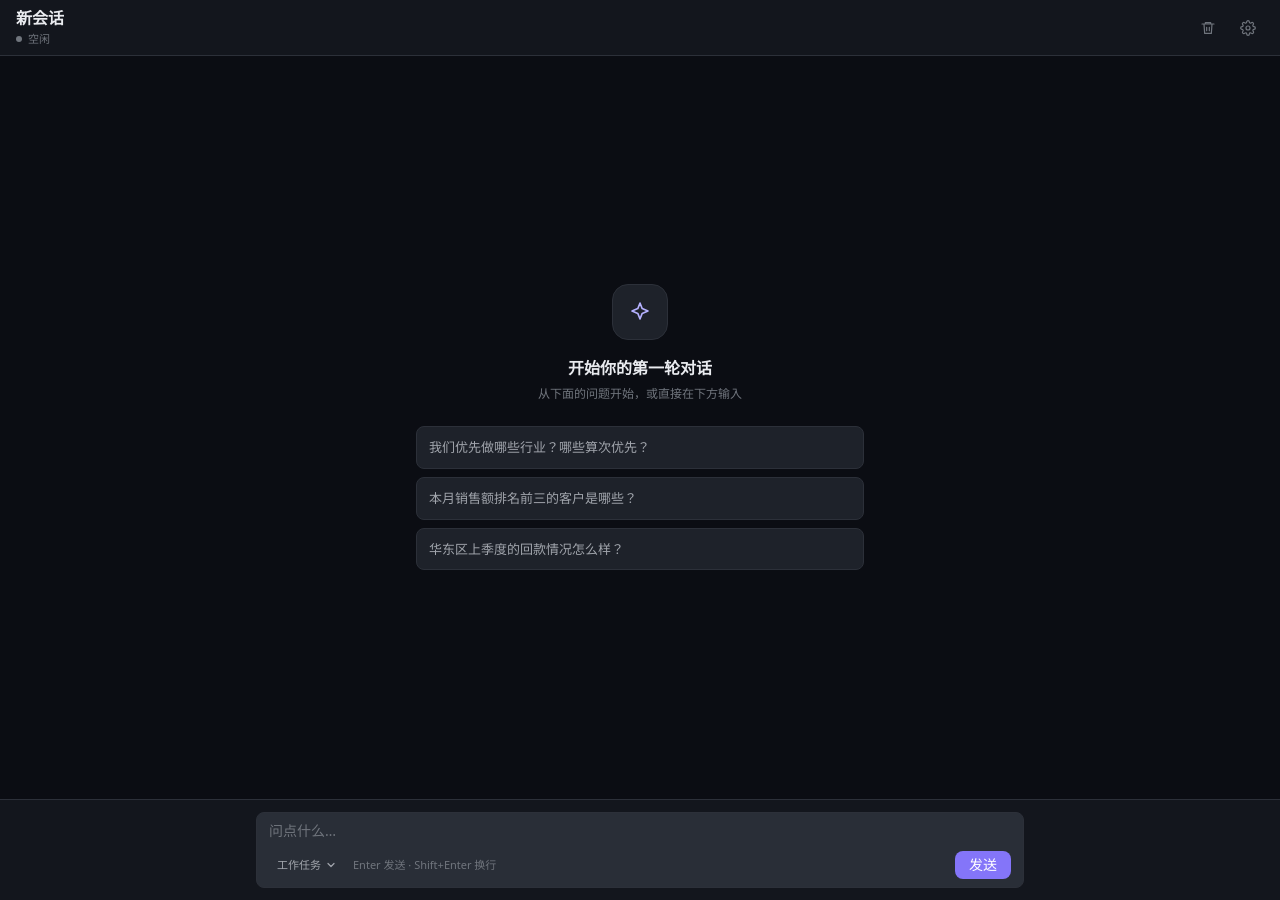
Scenario: ChatPage › 挂起审批期间发送按钮被禁用
This screenshot has width=1280, height=900.
Type "q" into the text box with placeholder "问点什么…".
click(640, 831); type("q")  # box 269,821 -> 1011,841
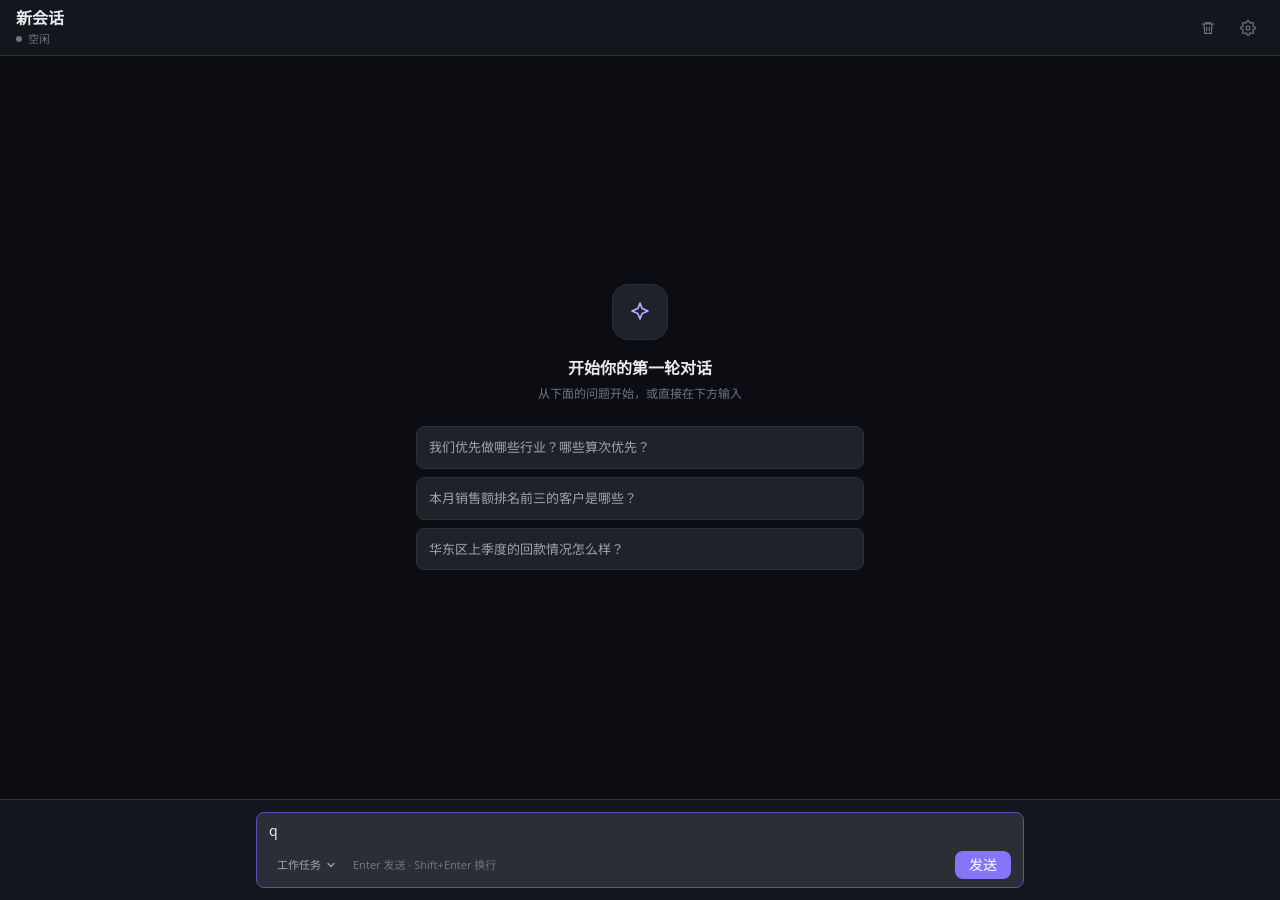
Click the button "发送".
click(983, 865)  # box 955,851 -> 1011,879
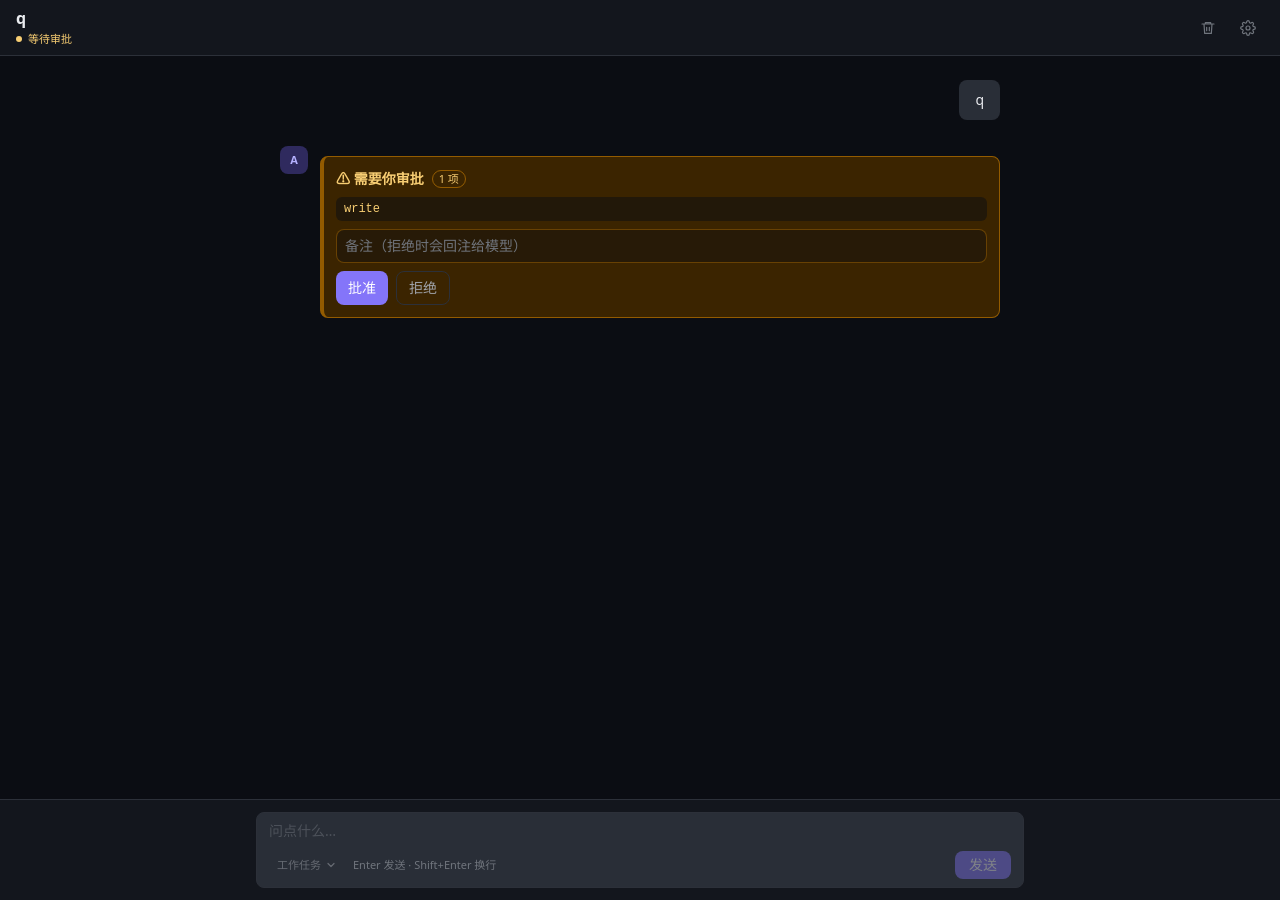
Result: the button "批准" is shown at 336,271 -> 388,305
Result: the button "发送" is disabled at 955,851 -> 1011,879
